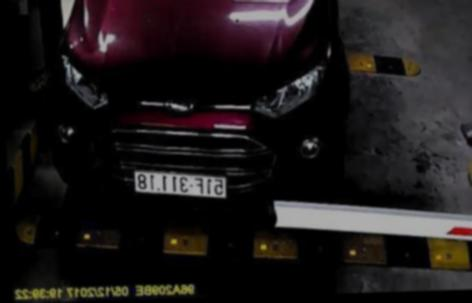License_Plate: (133, 169, 229, 203)
